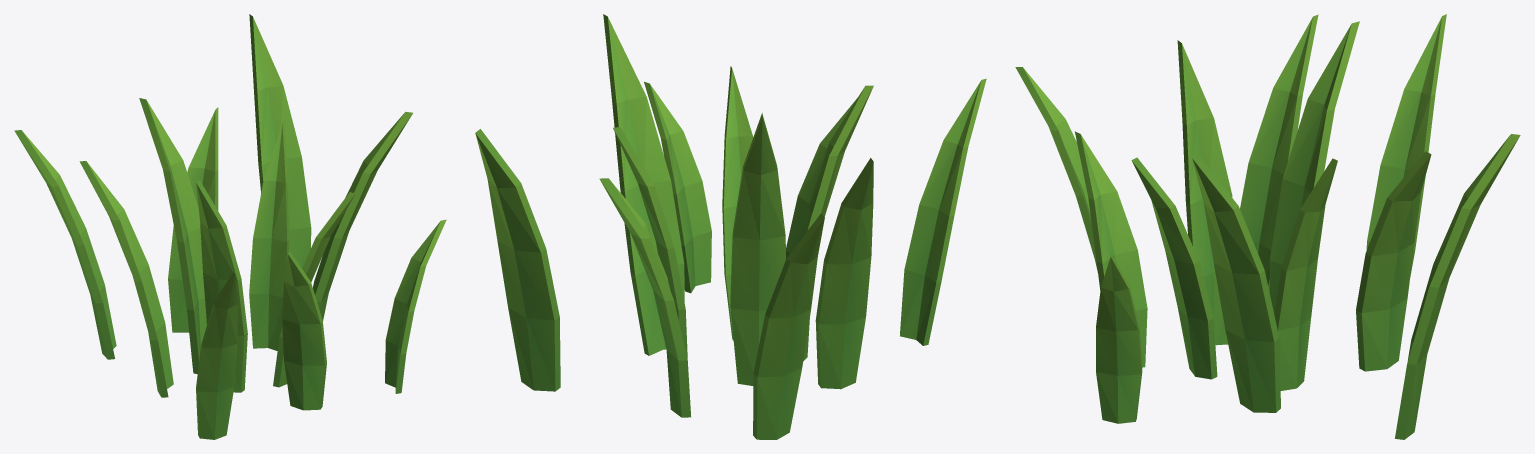
Rendered from kf_grass_2_d.fbx.
The picture shows the model from 3 angles, left to right: view 1: azimuth 30°, elevation 25°; view 2: azimuth 150°, elevation 25°; view 3: azimuth 270°, elevation 25°; orthographic projection. The views are drawn at different scales.
Parts seen in each view (by area): view 1: kf_grass_2_d_LOD0; view 2: kf_grass_2_d_LOD0; view 3: kf_grass_2_d_LOD0.
Part boxes in pixels (<box>): kf_grass_2_d_LOD0: <box>14,14,446,439</box>; kf_grass_2_d_LOD0: <box>475,14,986,439</box>; kf_grass_2_d_LOD0: <box>1015,14,1520,439</box>.
Size of what is drawn, in the model's own units: 1.55 by 1.31 by 1.91.
1 material, 1 textured.
